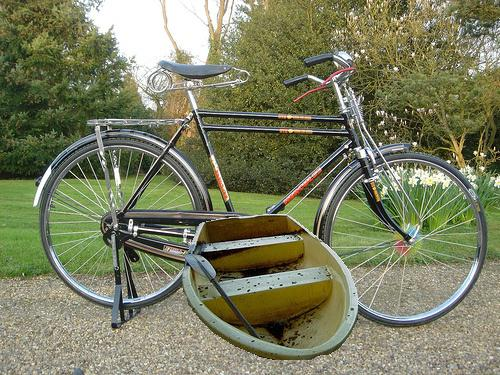tampered: (183, 215, 358, 360)
